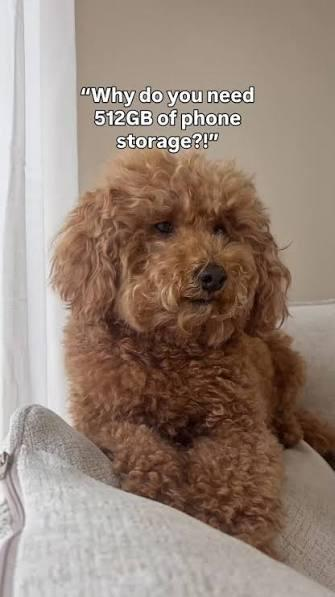adult_dog: (49, 146, 335, 562)
